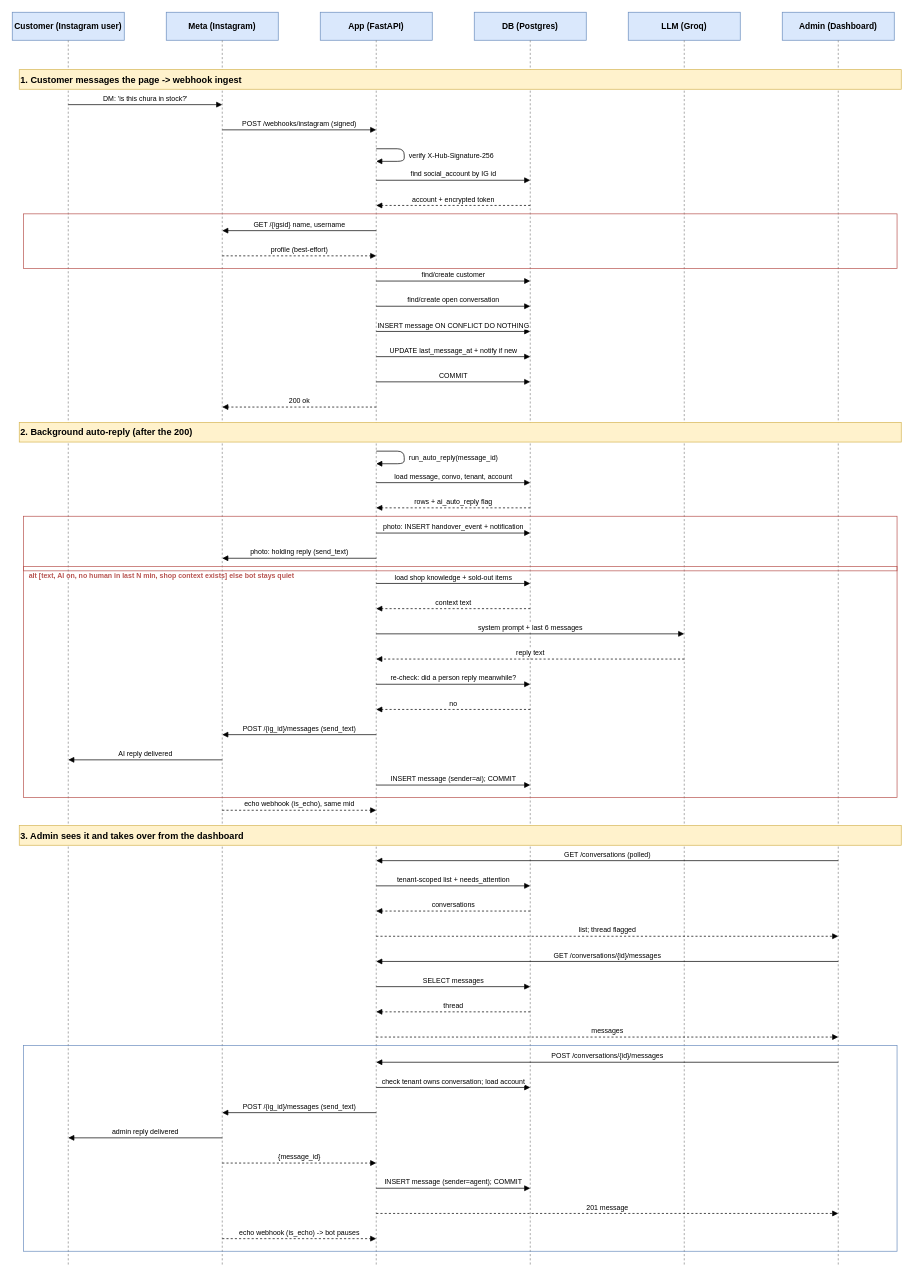
The diagram is 914 pixels wide and 1280 high, and some of its shapes have lost their labels. Each missing label, with the box of its shape:
admin reply: (23, 1045, 897, 1251)
alt [customer sent a photo] bot stays silent, admin is pinged: (23, 516, 897, 571)
opt [first message from this customer]: (23, 213, 897, 268)
